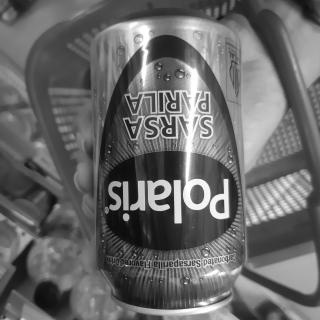alumunium_can: (70, 4, 263, 320)
